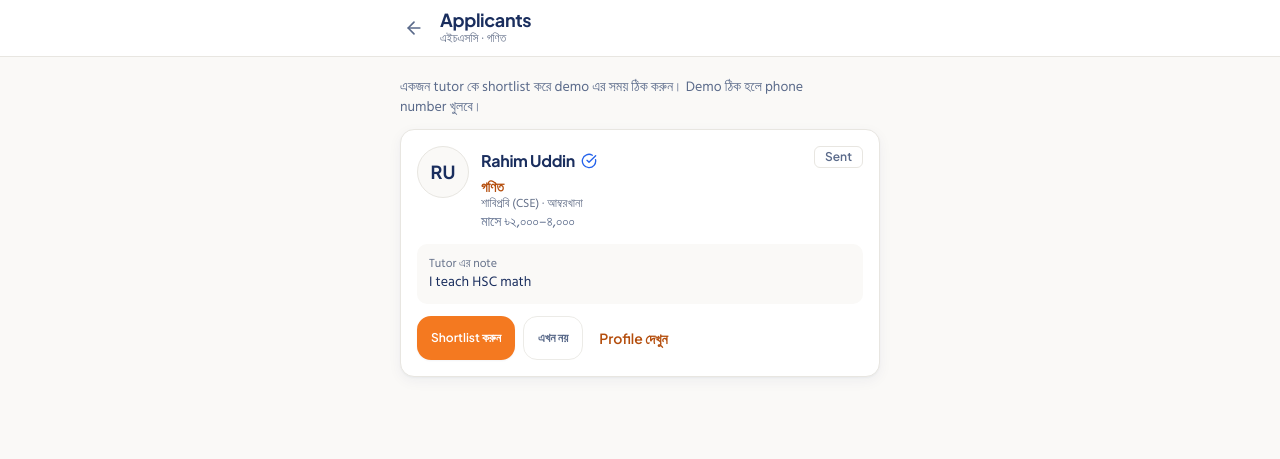
Test: Applicants page › shortlists an applicant and then offers to book the demo
The image size is (1280, 459).
Click the button "Shortlist করুন" at (466, 338), box x1=417 y1=316 x2=515 y2=360
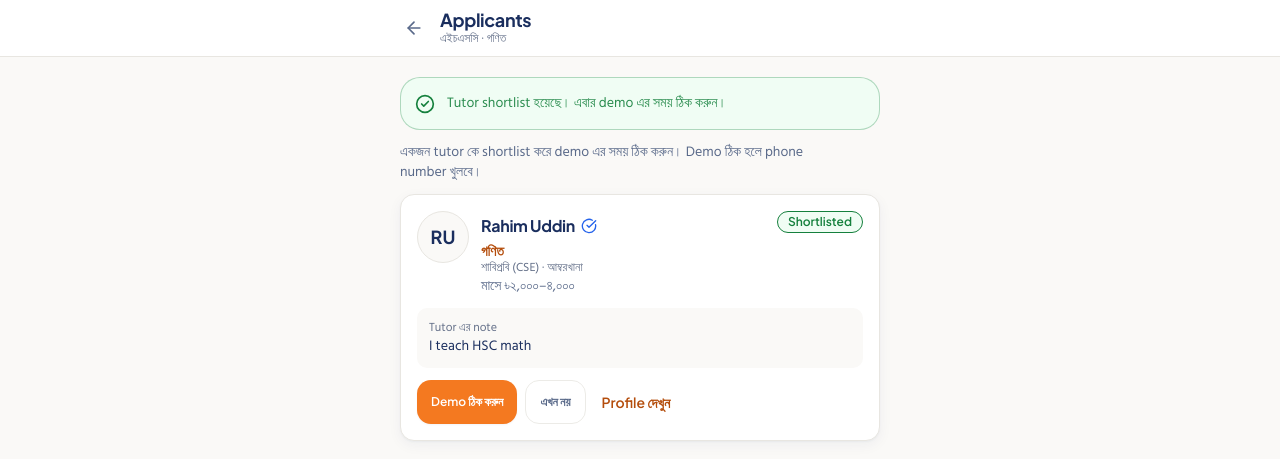
Now the text "Tutor shortlist হয়েছে। এবার demo এর সময় ঠিক করুন।" is shown, box x1=447 y1=91 x2=727 y2=114
Now the button "Demo ঠিক করুন" is shown, box x1=417 y1=380 x2=517 y2=424
